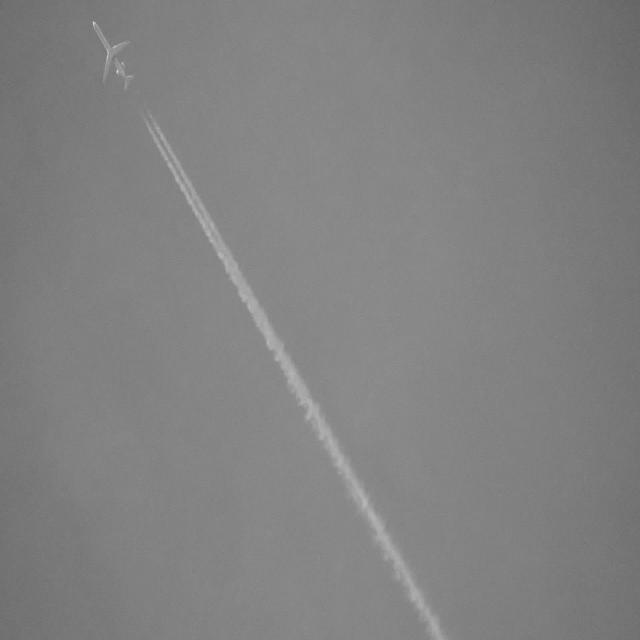aeroplane: (92, 12, 138, 99)
